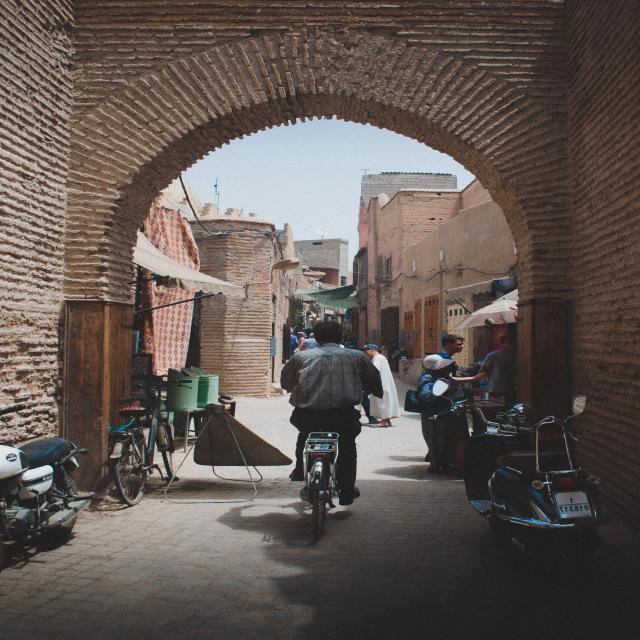adult: (278, 321, 382, 508)
